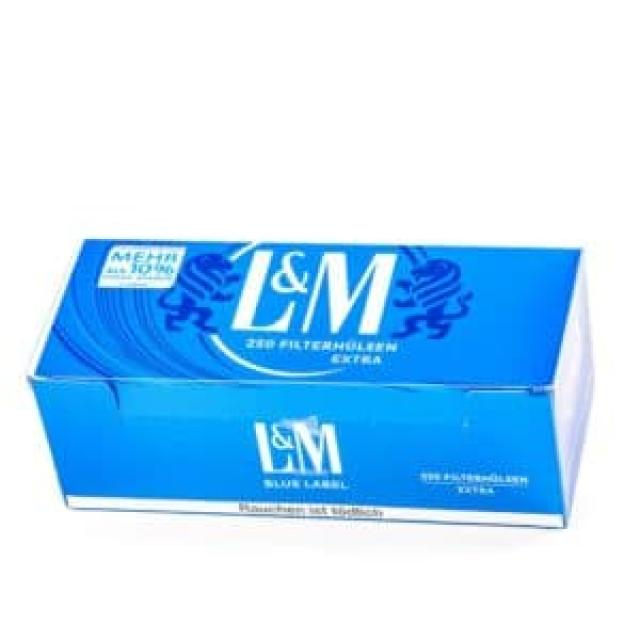lm: (28, 236, 609, 538)
